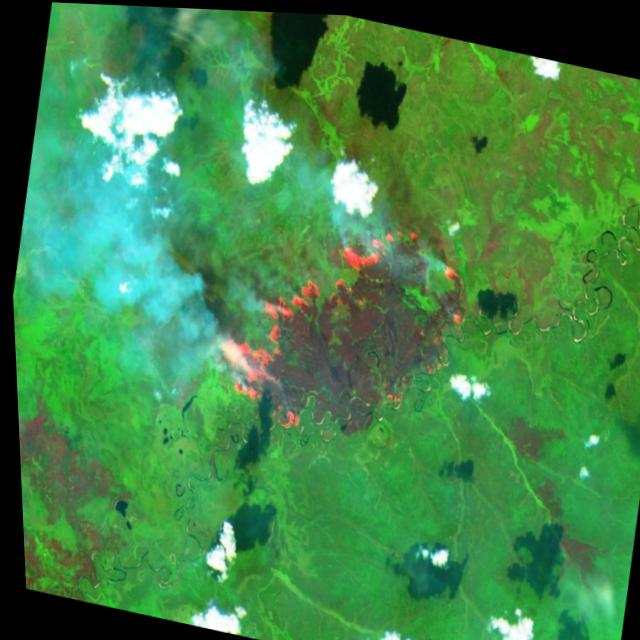fire: (214, 186, 479, 463)
